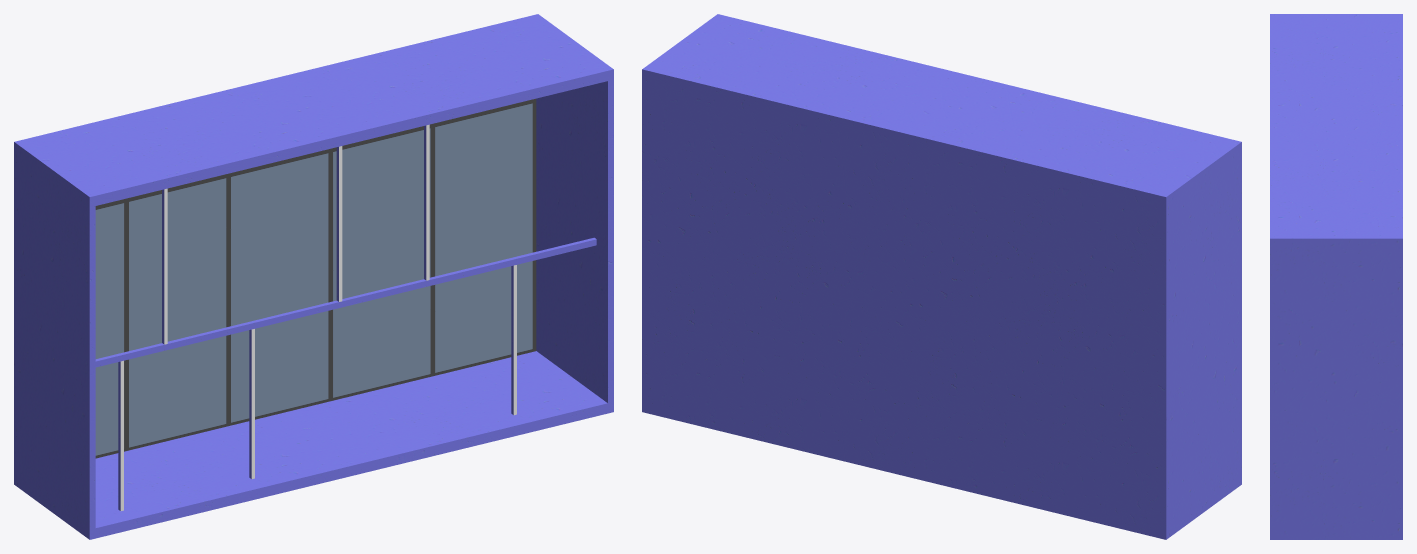
Rendered from Wall_8x5x2_004_L0.fbx.
3 views of the same model, side by side, from view 1: azimuth 30°, elevation 25°; view 2: azimuth 150°, elevation 25°; view 3: azimuth 270°, elevation 25° (orthographic). The views are drawn at different scales.
Parts seen in each view (by area): view 1: Wall_8x5x2_004_L0; view 2: Wall_8x5x2_004_L0; view 3: Wall_8x5x2_004_L0.
Part boxes in pixels (left/top/right/bottom): Wall_8x5x2_004_L0: left=14, top=14, right=613, bottom=539; Wall_8x5x2_004_L0: left=642, top=14, right=1241, bottom=539; Wall_8x5x2_004_L0: left=1270, top=14, right=1402, bottom=539.
Bounding box in the file's own units: 8 × 2 × 5.
